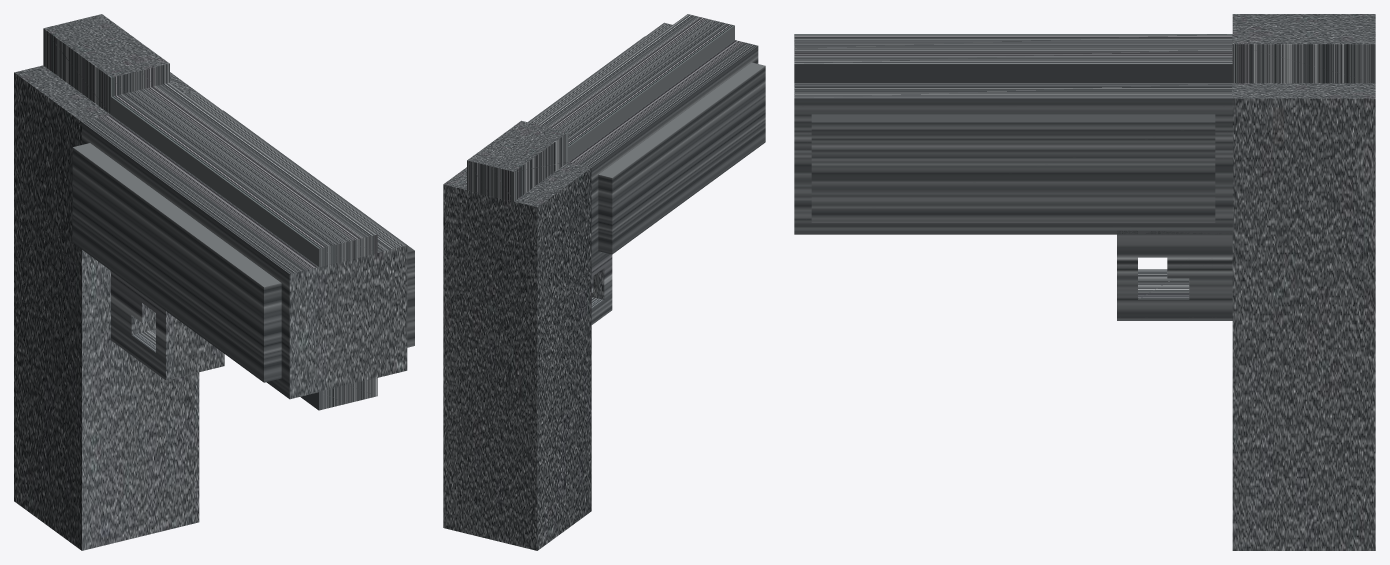
File: gun.dae
The picture shows the model from 3 angles, left to right: view 1: azimuth 30°, elevation 25°; view 2: azimuth 150°, elevation 25°; view 3: azimuth 270°, elevation 25°; orthographic projection. The views are drawn at different scales.
Parts seen in each view (by area): view 1: Cube; view 2: Cube; view 3: Cube.
Boxes of the visible parts, bbox=[...] form: Cube: bbox=[14, 14, 414, 550]; Cube: bbox=[443, 14, 765, 550]; Cube: bbox=[794, 14, 1375, 550].
Bounding box in the file's own units: 2.57 × 8.13 × 7.58.
Materials: 1 (1 with a texture image).
